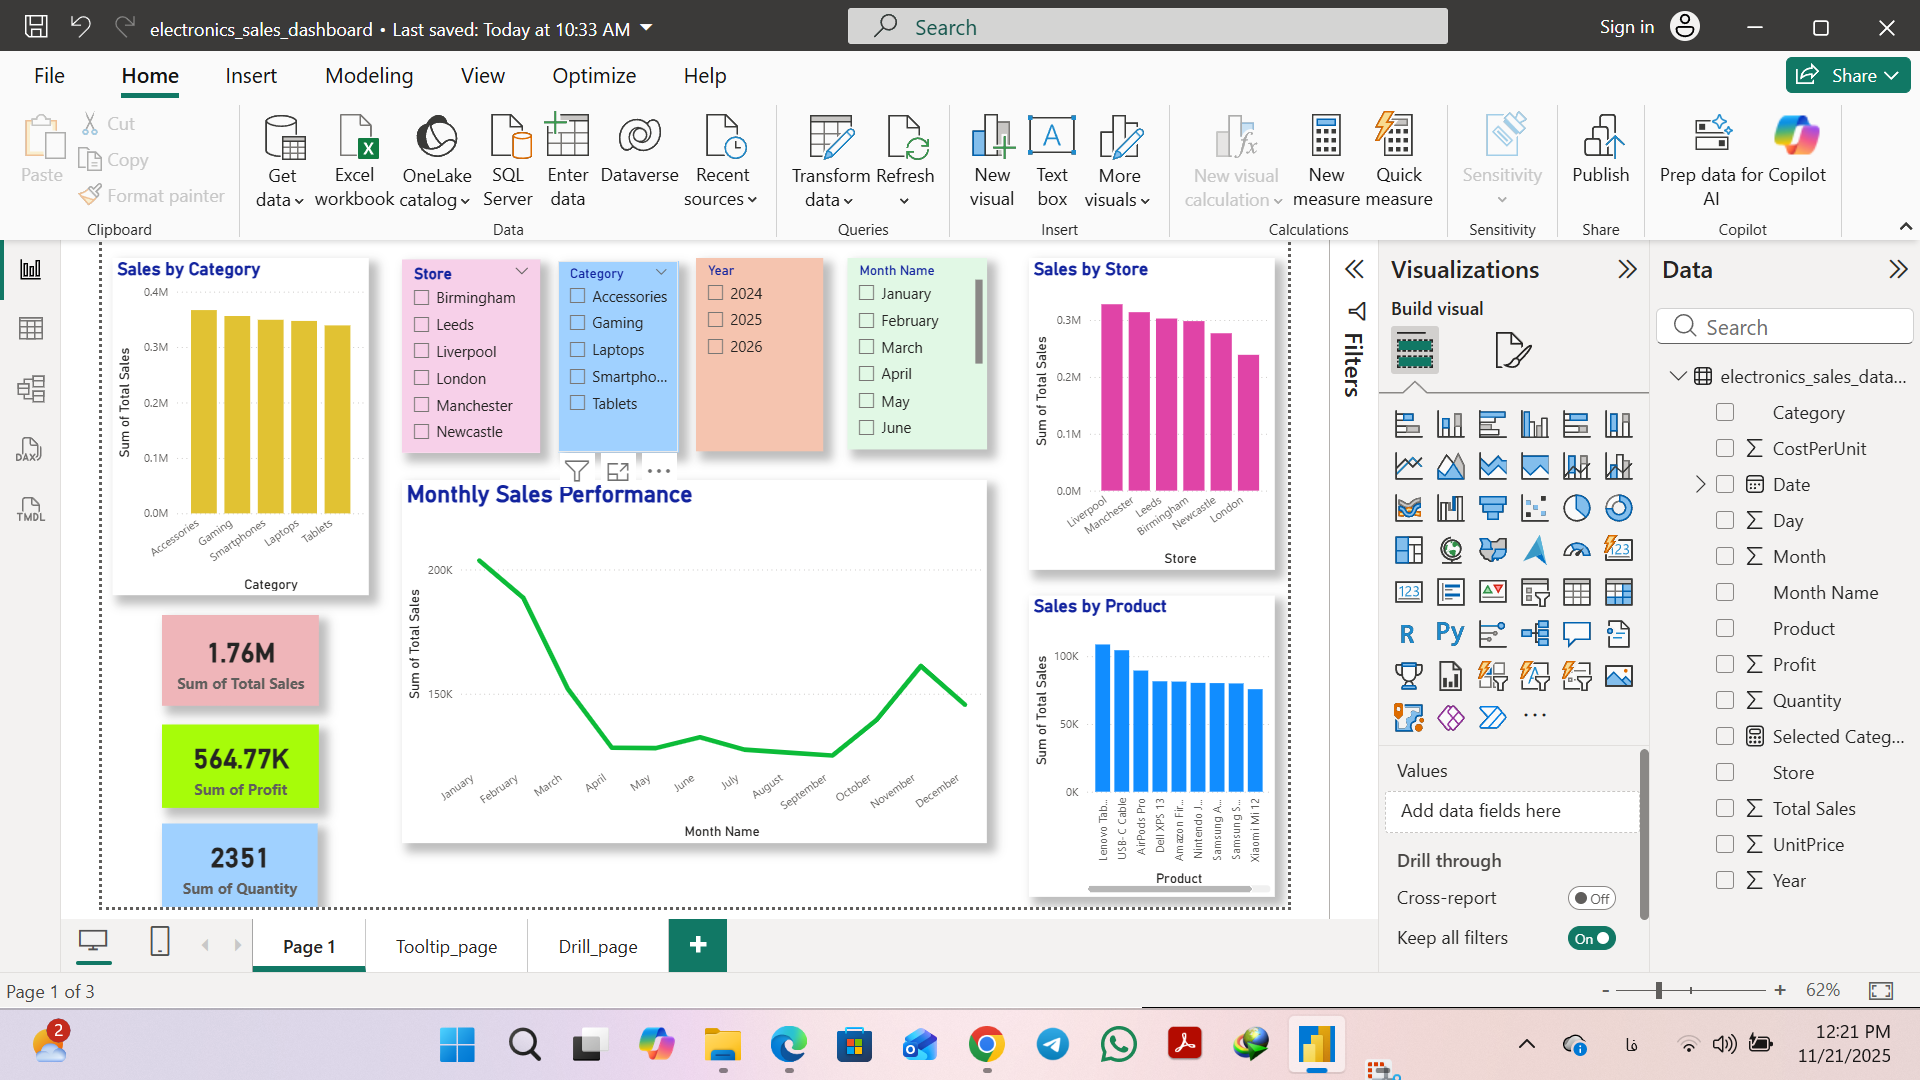

The dashboard page shown, as its layout file describes it:
{"tool":"powerbi","page":{"name":"Page 1","canvas":[1280,720],"ordinal":0},"visuals":[{"type":"lineChart","title":"Monthly Sales Performance","fields":{"Y":["Sum(electronics_sales_dataset_800rows.TotalSales)"],"Category":["electronics_sales_dataset_800rows.Month Name"]},"box":[323.8,259.1,631.5,391.9],"z":0},{"type":"card","fields":{"Values":["Sum(electronics_sales_dataset_800rows.TotalSales)"]},"box":[64.4,405.1,169.5,98.3],"z":1000},{"type":"card","fields":{"Values":["Sum(electronics_sales_dataset_800rows.Profit)"]},"box":[64.4,523.7,169.5,89.8],"z":2000},{"type":"card","fields":{"Values":["Sum(electronics_sales_dataset_800rows.Quantity)"]},"box":[64.4,630.5,167.8,89.8],"z":3000},{"type":"clusteredColumnChart","title":"Sales by Store","fields":{"Category":["electronics_sales_dataset_800rows.Store"],"Y":["Sum(electronics_sales_dataset_800rows.TotalSales)"]},"box":[1000.7,19.4,265.6,336.8],"z":4000},{"type":"clusteredColumnChart","title":"Sales by Category","fields":{"Category":["electronics_sales_dataset_800rows.Category"],"Y":["Sum(electronics_sales_dataset_800rows.TotalSales)"]},"box":[11.3,19.4,276.9,364.3],"z":5000},{"type":"clusteredColumnChart","title":"Sales by Product","fields":{"Category":["electronics_sales_dataset_800rows.Product"],"Y":["Sum(electronics_sales_dataset_800rows.TotalSales)"]},"box":[1000.7,383.8,265.6,325.5],"z":6000},{"type":"slicer","fields":{"Values":["electronics_sales_dataset_800rows.Store"]},"box":[323.7,20.3,149.2,208.5],"z":7000},{"type":"slicer","fields":{"Values":["electronics_sales_dataset_800rows.Category"]},"box":[491.5,22,130.5,206.8],"z":7001},{"type":"slicer","fields":{"Values":["electronics_sales_dataset_800rows.Year"]},"box":[640.7,18.6,137.3,208.5],"z":7002},{"type":"slicer","fields":{"Values":["electronics_sales_dataset_800rows.Month Name"]},"box":[805.1,18.6,150.8,206.8],"z":7003}]}

Visuals, with their boxes on the page's 1280x720 design canvas (x1, y1, x2, y2). These are canvas units, not pixel positions in the 1920x1080 screenshot, which may show the page scaled, cropped or inside an application window:
"Monthly Sales Performance" lineChart: detection(324, 259, 955, 651)
card - Sum(electronics_sales_dataset_800rows.TotalSales): detection(64, 405, 234, 503)
card - Sum(electronics_sales_dataset_800rows.Profit): detection(64, 524, 234, 614)
card - Sum(electronics_sales_dataset_800rows.Quantity): detection(64, 630, 232, 720)
"Sales by Store" clusteredColumnChart: detection(1001, 19, 1266, 356)
"Sales by Category" clusteredColumnChart: detection(11, 19, 288, 384)
"Sales by Product" clusteredColumnChart: detection(1001, 384, 1266, 709)
slicer - electronics_sales_dataset_800rows.Store: detection(324, 20, 473, 229)
slicer - electronics_sales_dataset_800rows.Category: detection(492, 22, 622, 229)
slicer - electronics_sales_dataset_800rows.Year: detection(641, 19, 778, 227)
slicer - electronics_sales_dataset_800rows.Month Name: detection(805, 19, 956, 225)
